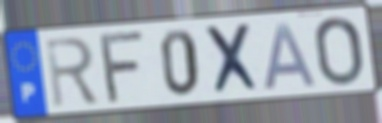0: (158, 28, 201, 100)
A: (261, 20, 320, 92)
F: (98, 28, 149, 107)
O: (312, 14, 366, 88)
R: (43, 35, 103, 111)
X: (201, 21, 265, 98)
